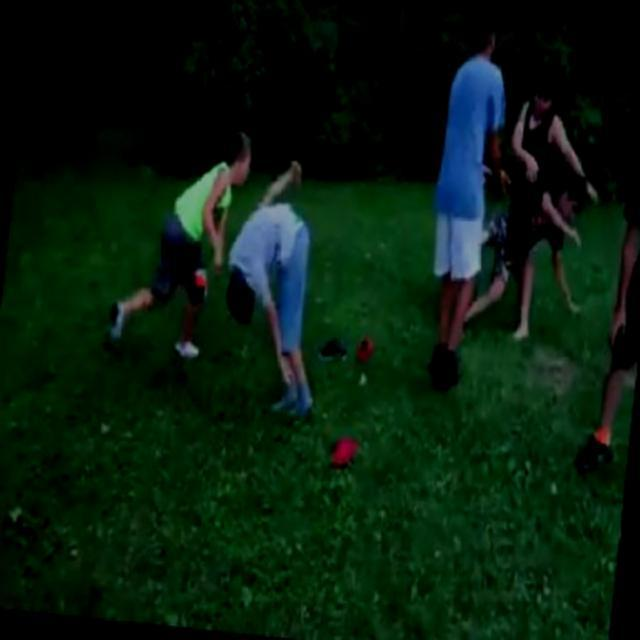non-fight: (414, 12, 516, 391), (576, 94, 638, 480)
